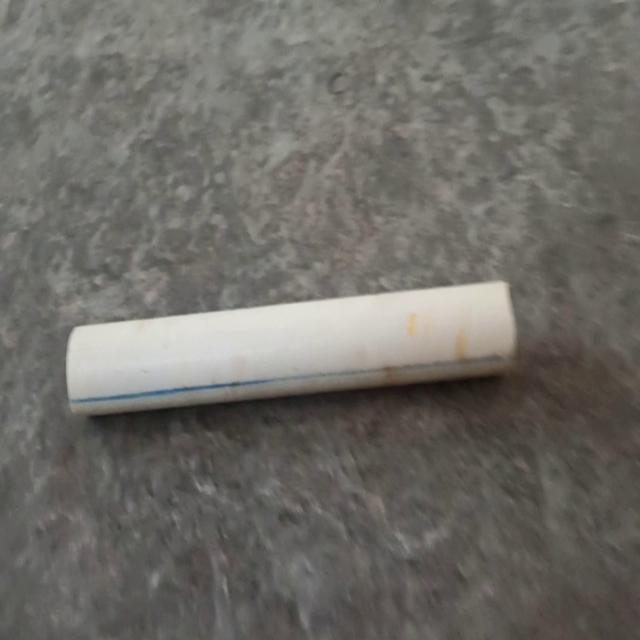Cube: (64, 276, 518, 418)
